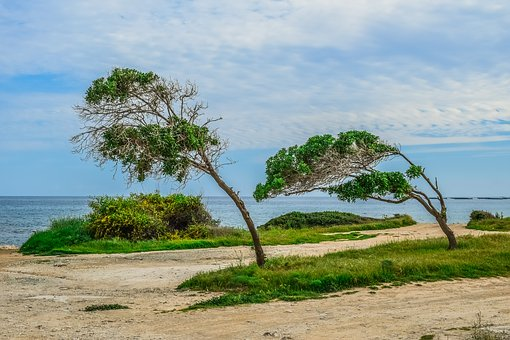sky: (5, 3, 496, 200)
tree: (93, 78, 271, 265), (270, 106, 448, 293)
